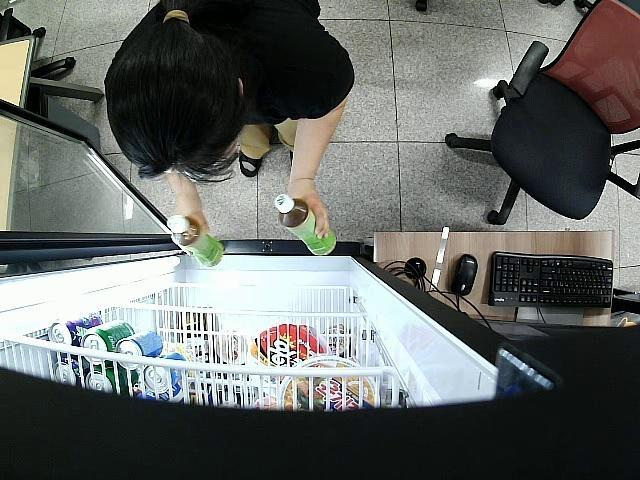19_17cha: (273, 192, 334, 258), (167, 213, 224, 267)
